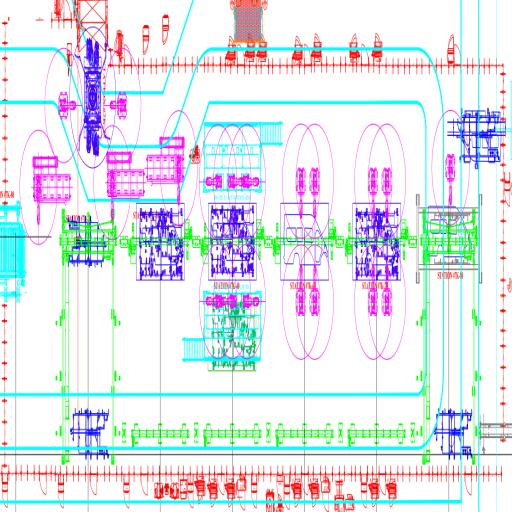robot: (108, 85, 129, 125), (380, 262, 394, 320), (308, 262, 321, 322), (444, 150, 457, 208), (295, 262, 307, 322), (295, 164, 307, 218), (309, 162, 320, 220), (240, 290, 262, 318), (57, 90, 76, 122), (368, 164, 378, 224), (203, 288, 225, 314), (382, 164, 392, 220), (369, 258, 378, 317), (240, 168, 260, 194), (34, 177, 44, 229), (205, 171, 224, 195), (109, 166, 117, 222), (176, 150, 184, 206)
